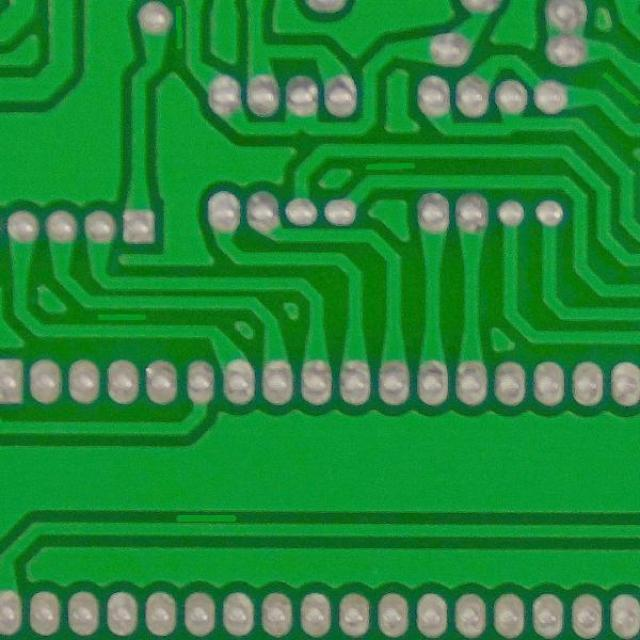Spurious_Cooper: (592, 60, 639, 111), (170, 509, 242, 524), (358, 158, 422, 174), (170, 1, 188, 52), (92, 310, 150, 324)
